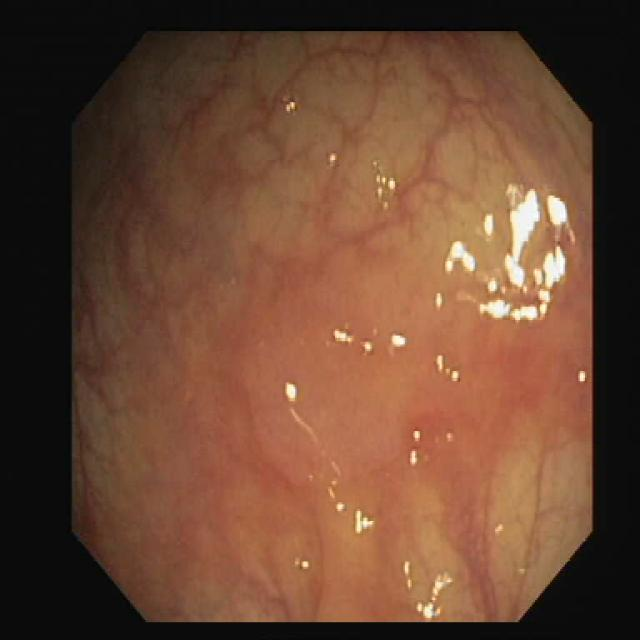tumor: (235, 269, 418, 491)
